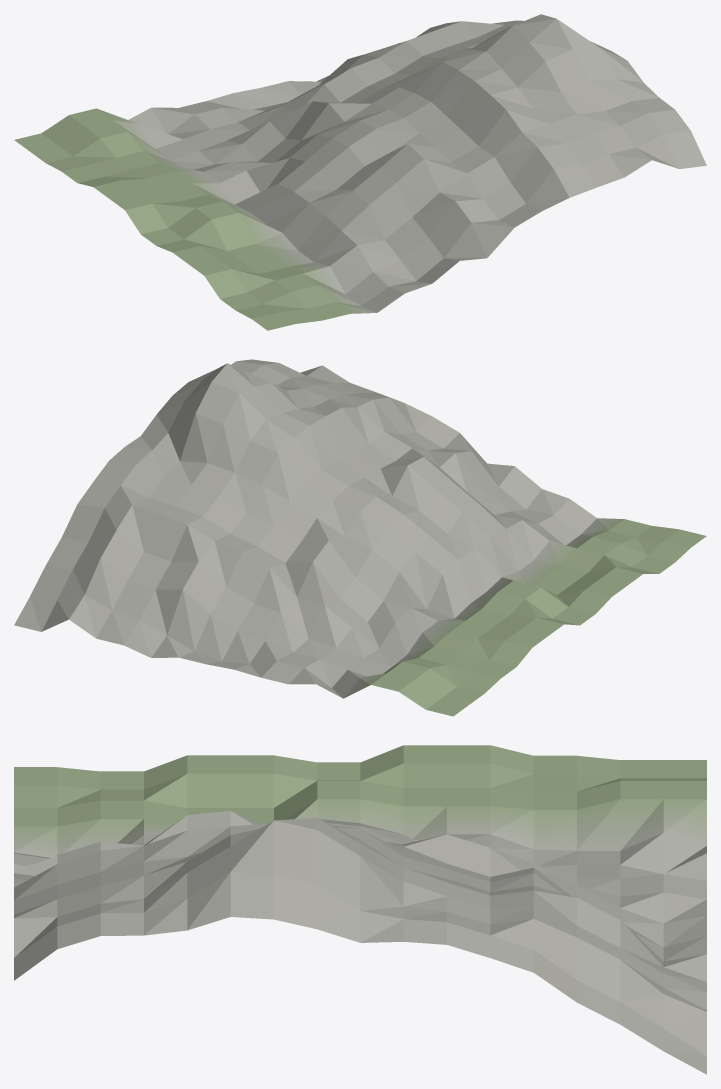
The picture shows the model from 3 angles, top to bottom: view 1: azimuth 30°, elevation 25°; view 2: azimuth 150°, elevation 25°; view 3: azimuth 270°, elevation 25°; orthographic projection. The views are drawn at different scales.
Bounding box in the file's own units: 32 × 11.28 × 32.
